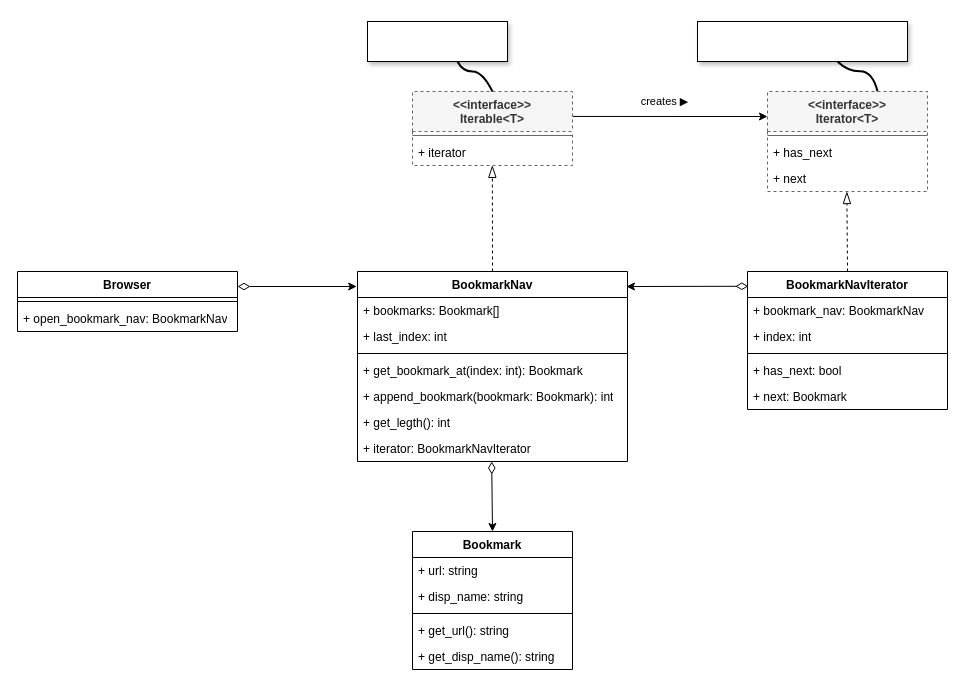
This 965x690 diagram has some shape labels left out. The centre of each missing label's shape, as x and y in pixels:
処理を繰り返す反復子を表す interface: [803,42]
集合体を表す interface: [438,42]
